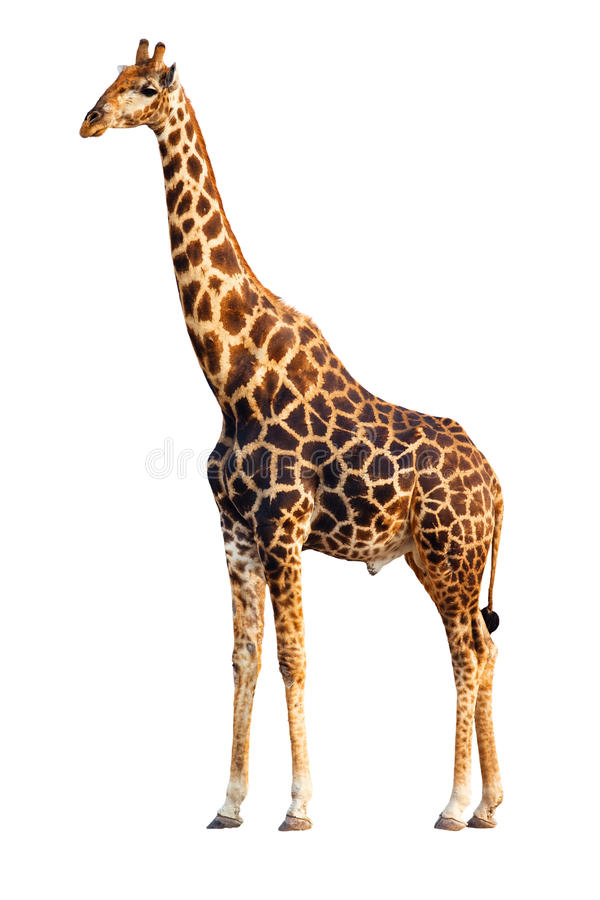Jirafa: (70, 35, 525, 844)
